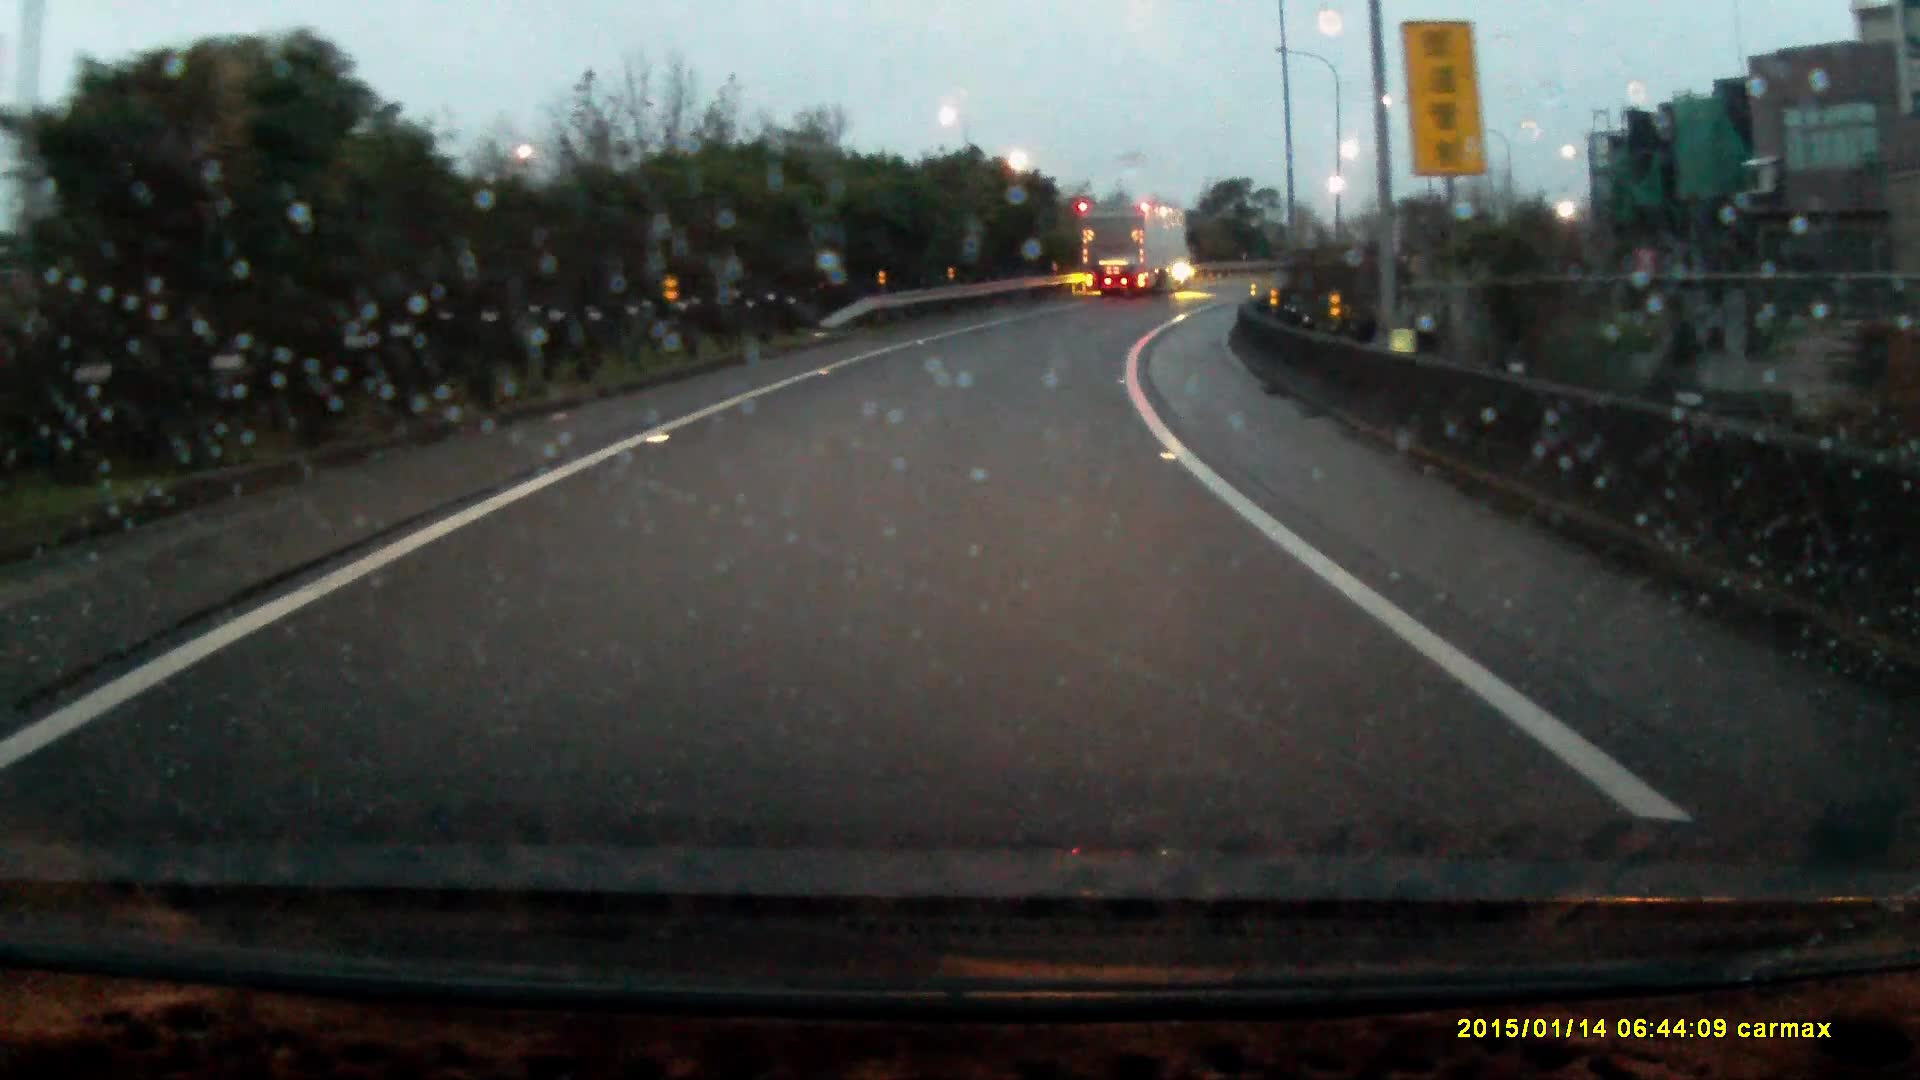vehicle: (1079, 199, 1197, 297)
